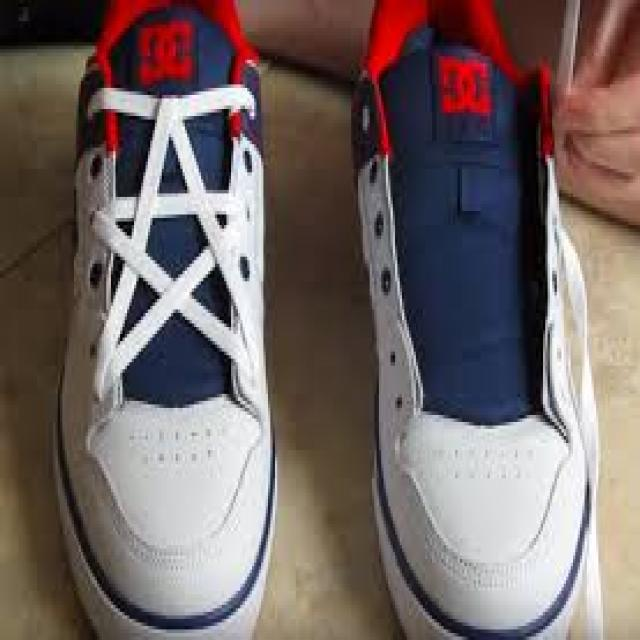shoe: (337, 57, 612, 640), (54, 6, 284, 640)
